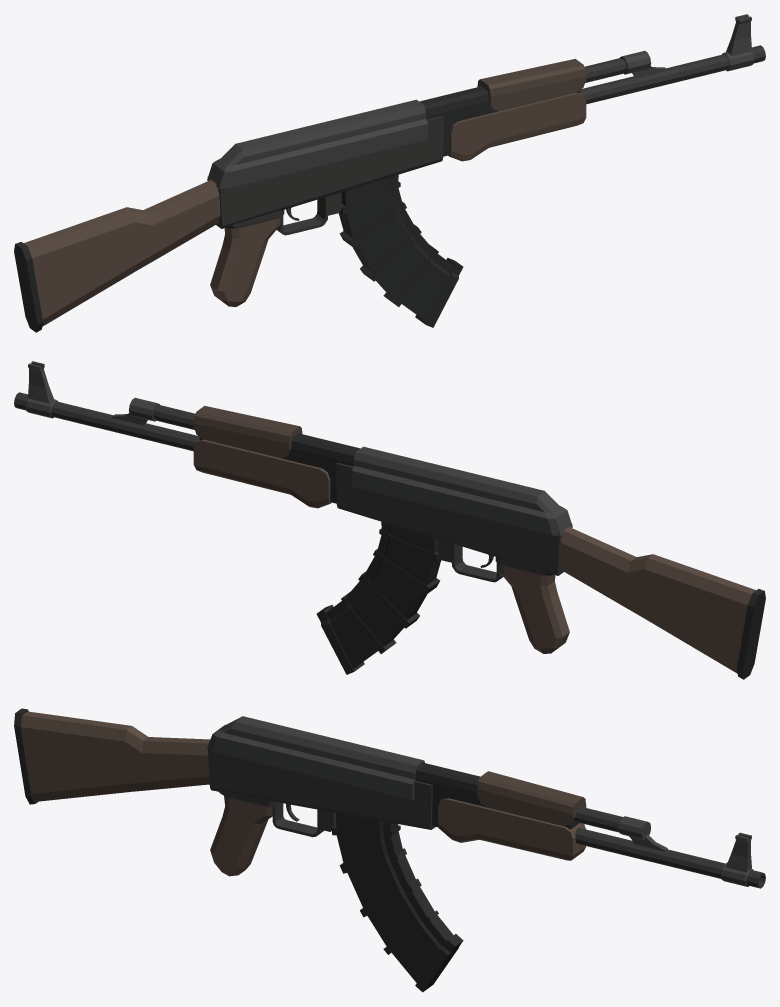
The model's file is rifle.glb.
3 views of the same model, one above another, from view 1: azimuth 30°, elevation 25°; view 2: azimuth 150°, elevation 25°; view 3: azimuth 330°, elevation 25° (orthographic).
Visible parts, largest first — view 1: AssaultRifle_2; view 2: AssaultRifle_2; view 3: AssaultRifle_2.
Boxes of the visible parts, box(x1,y1,x2,y2) form: AssaultRifle_2: box(14, 14, 765, 332); AssaultRifle_2: box(14, 361, 765, 679); AssaultRifle_2: box(14, 708, 765, 992).
Bounding box in the file's own units: 5.42 × 1.6 × 0.196.
